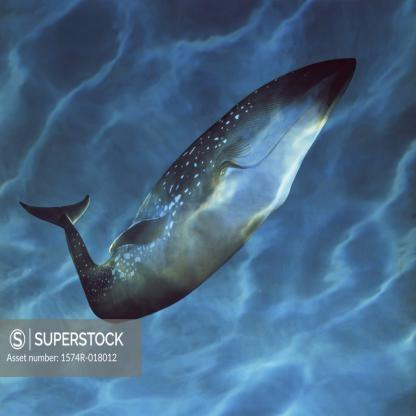blue_whale: (74, 37, 371, 274)
